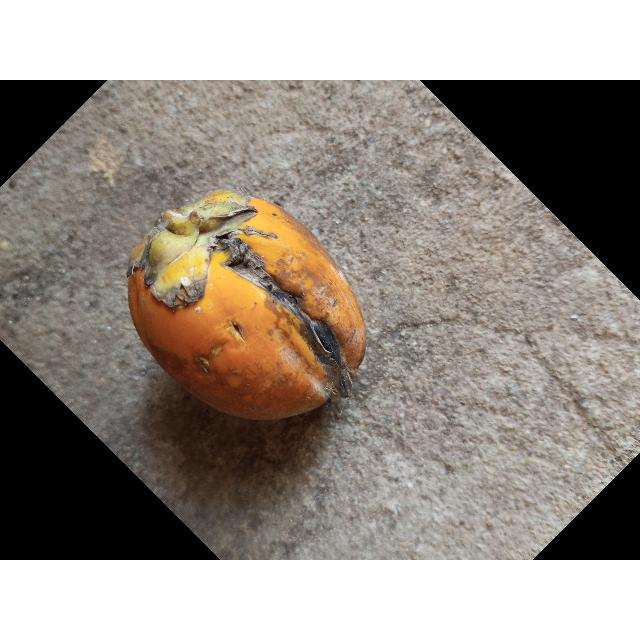damaged: (125, 191, 367, 423)
